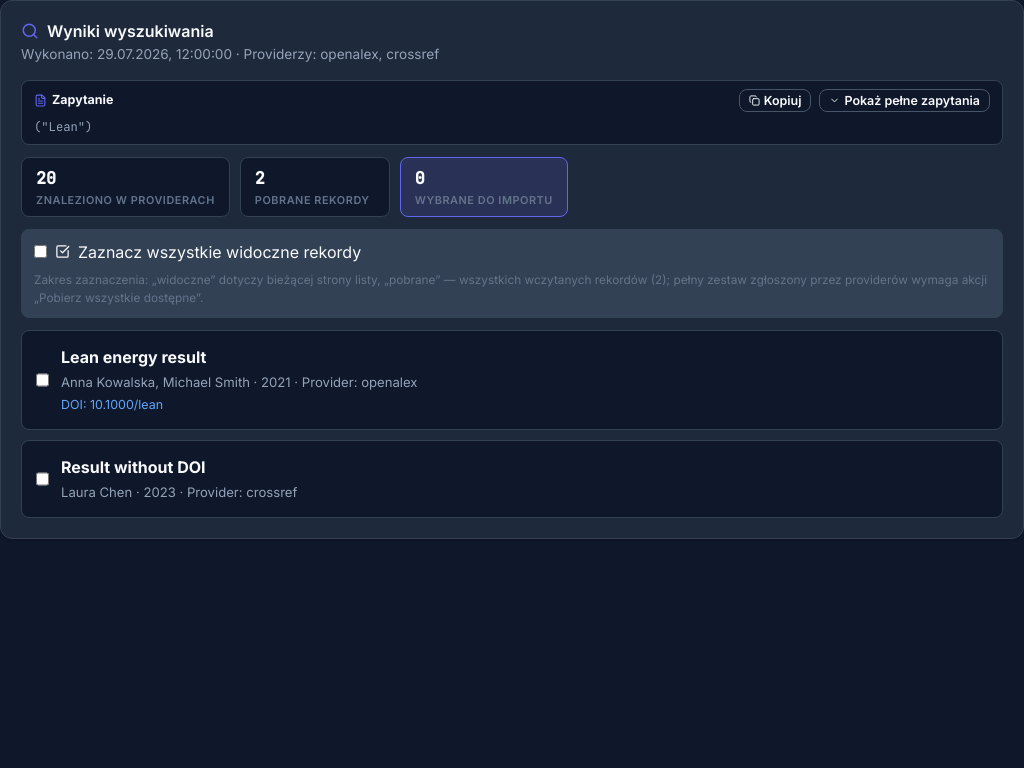
SearchResultsSection › selects one record and toggles all visible records
Step 1. Click the checkbox named "Wybierz rekord Lean energy result" → (42, 380), box [36,346,49,415]
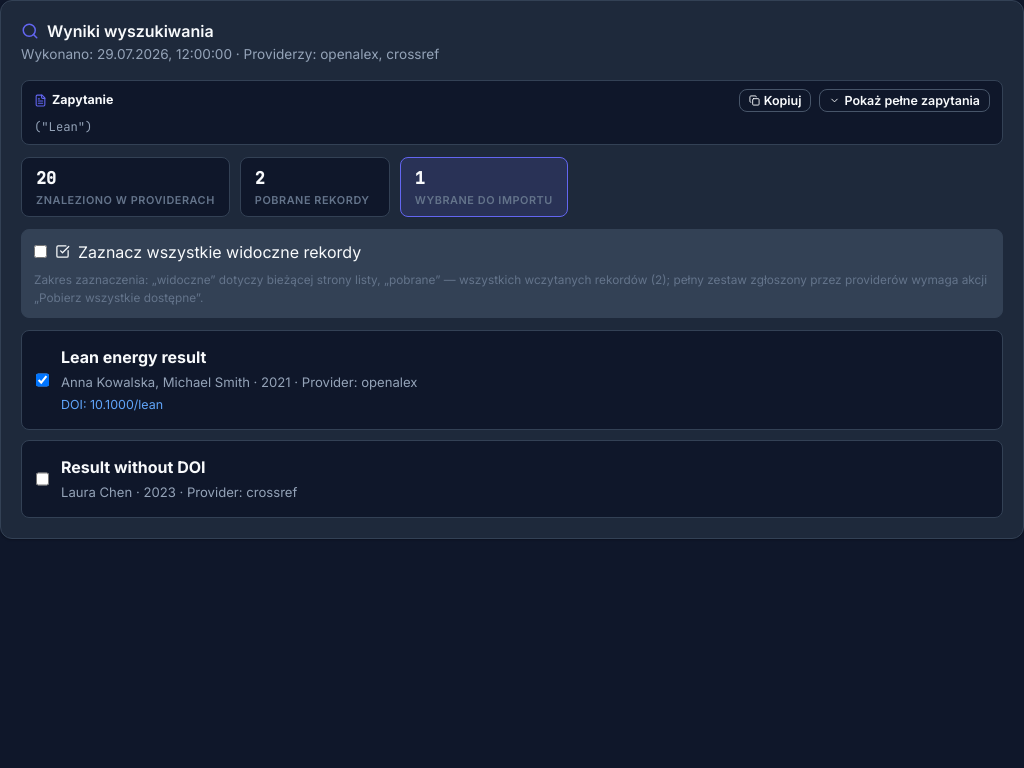
Expected: the checkbox named "Wybierz rekord Result without DOI" is not checked, [36,455,49,503]
Expected: the checkbox named "Wybierz rekord Lean energy result" is checked, [36,346,49,415]
Step 2. Click the checkbox labelled "Zaznacz wszystkie widoczne rekordy" → (40, 252), box [34,245,47,258]
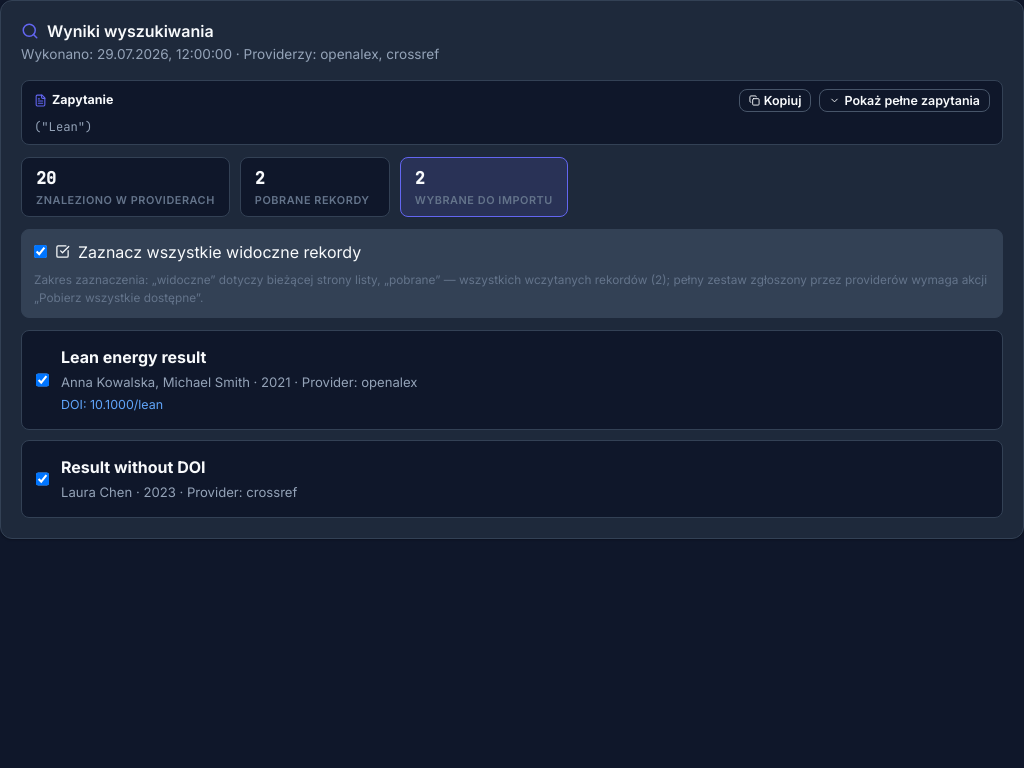
Expected: the checkbox named "Wybierz rekord Lean energy result" is checked, [36,346,49,415]
Expected: the checkbox named "Wybierz rekord Result without DOI" is checked, [36,455,49,503]
Step 3. Click the checkbox labelled "Zaznacz wszystkie widoczne rekordy" → (40, 252), box [34,245,47,258]
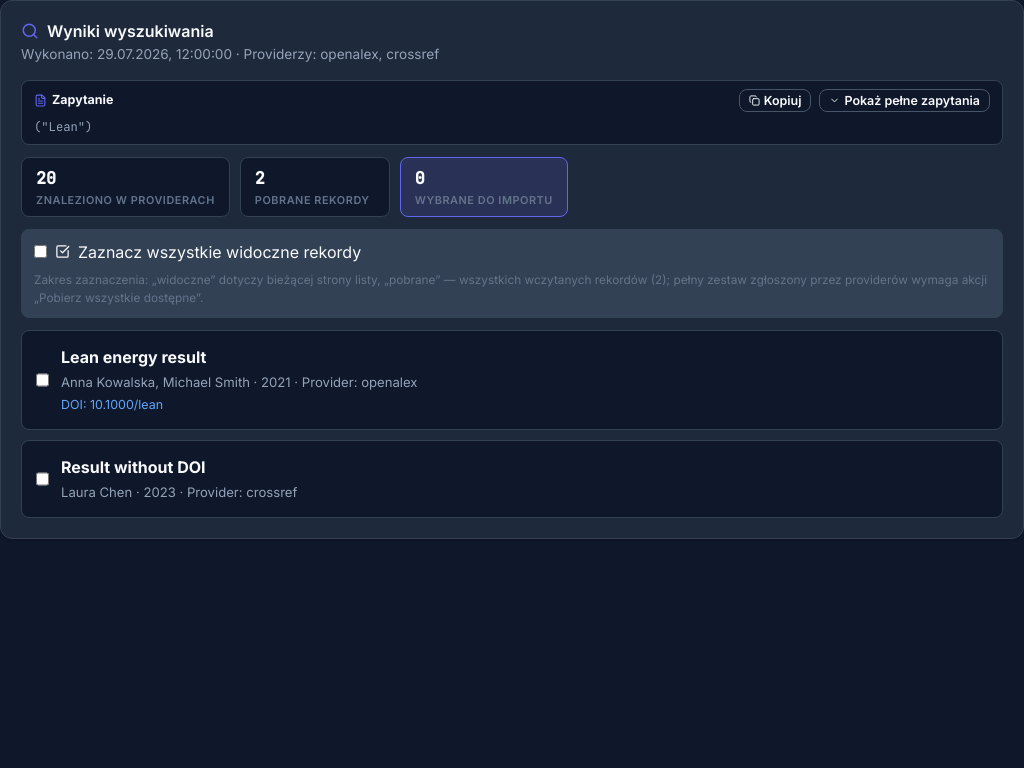
Expected: the checkbox named "Wybierz rekord Lean energy result" is not checked, [36,346,49,415]
Expected: the checkbox named "Wybierz rekord Result without DOI" is not checked, [36,455,49,503]
